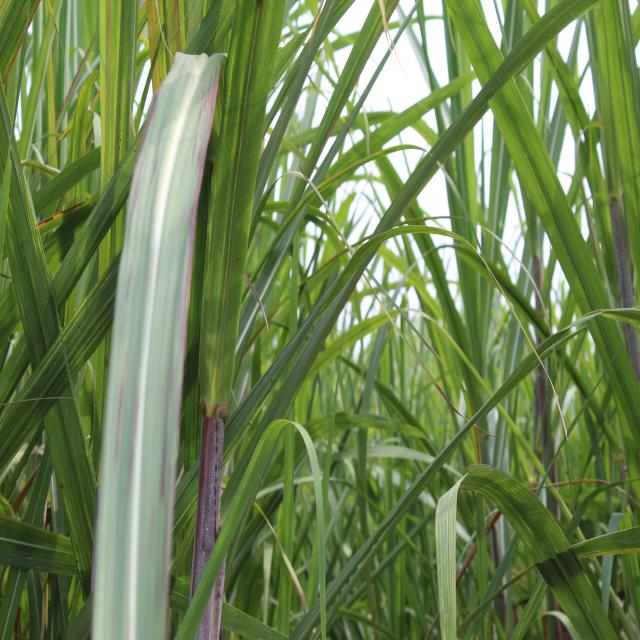Sugarcane: (2, 2, 302, 466), (444, 6, 636, 516), (261, 3, 383, 437), (375, 280, 553, 498), (2, 220, 134, 485), (200, 2, 282, 416), (340, 409, 482, 636), (168, 414, 294, 638), (225, 290, 343, 490), (65, 9, 113, 488), (45, 103, 149, 318), (98, 1, 134, 534), (1, 397, 69, 640), (249, 0, 318, 228), (446, 1, 485, 399), (317, 2, 405, 178), (2, 109, 57, 386), (590, 4, 638, 293), (241, 190, 309, 382), (438, 236, 554, 347), (410, 218, 474, 406), (41, 388, 95, 600), (360, 68, 481, 149), (303, 456, 355, 630), (491, 2, 525, 264), (540, 546, 628, 640), (460, 526, 530, 640), (20, 2, 60, 191), (330, 300, 422, 380), (539, 13, 592, 148), (66, 4, 102, 202), (355, 314, 387, 513), (372, 380, 447, 459), (255, 502, 305, 618), (29, 144, 102, 221), (0, 510, 81, 576), (0, 321, 42, 446), (492, 404, 548, 491), (393, 2, 436, 101), (115, 3, 137, 195), (184, 0, 247, 61), (1, 1, 39, 94), (543, 307, 639, 342), (216, 599, 292, 640), (52, 2, 67, 185), (509, 576, 550, 640), (1, 559, 32, 639), (64, 1, 84, 122), (574, 524, 639, 557), (145, 0, 164, 94)
